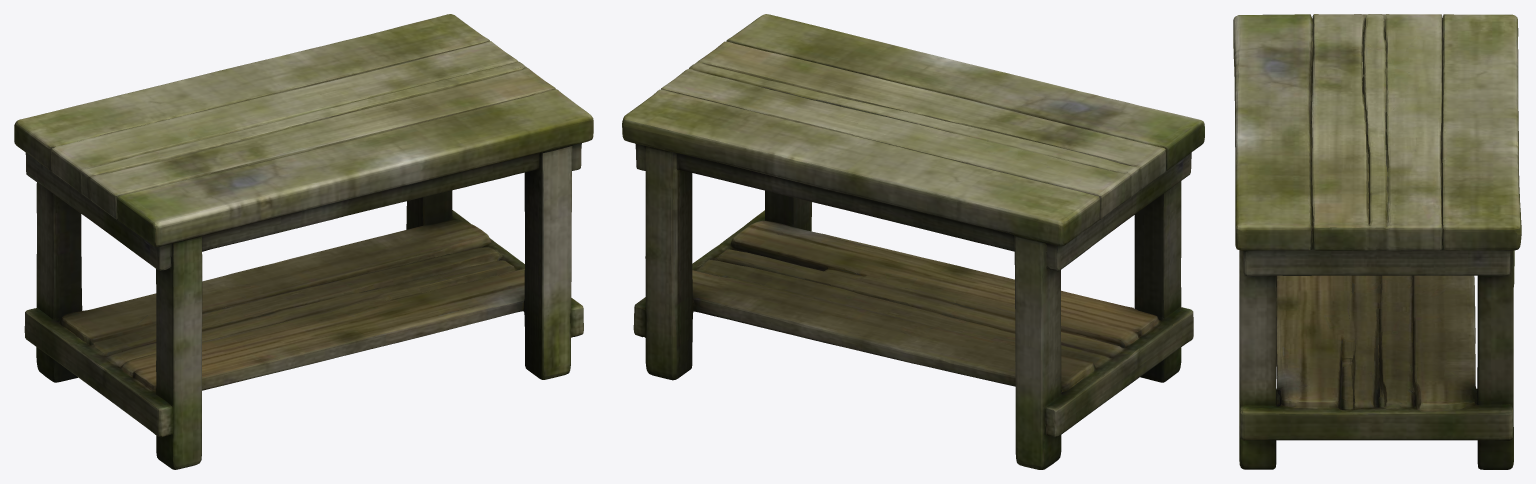
The model's file is crafttable.glb.
3 views of the same model, side by side, from view 1: azimuth 30°, elevation 25°; view 2: azimuth 150°, elevation 25°; view 3: azimuth 270°, elevation 25° (orthographic).
Parts seen in each view (by area): view 1: world; view 2: world; view 3: world.
Boxes of the visible parts, x1=… form: world: x1=14, y1=14, x2=593, y2=469; world: x1=622, y1=14, x2=1204, y2=469; world: x1=1233, y1=14, x2=1521, y2=469.
Bounding box in the file's own units: 0.9999 × 0.5535 × 0.5686.
Materials: 1 (1 with a texture image).
